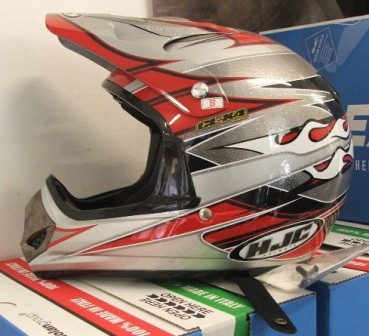helmet: (53, 12, 350, 267)
